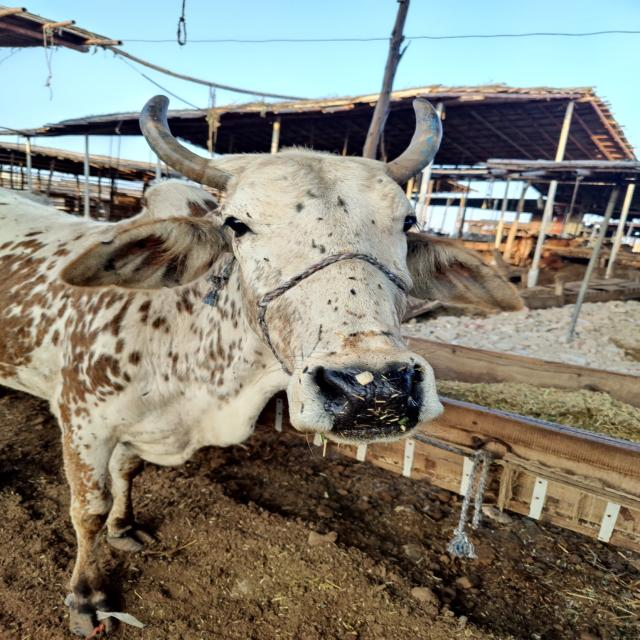muzzles: (305, 356, 431, 434)
